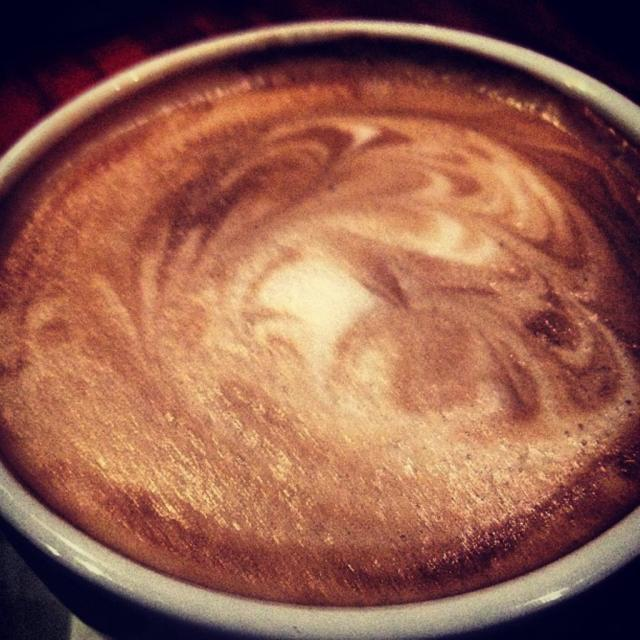Coffee: (1, 23, 640, 640)
